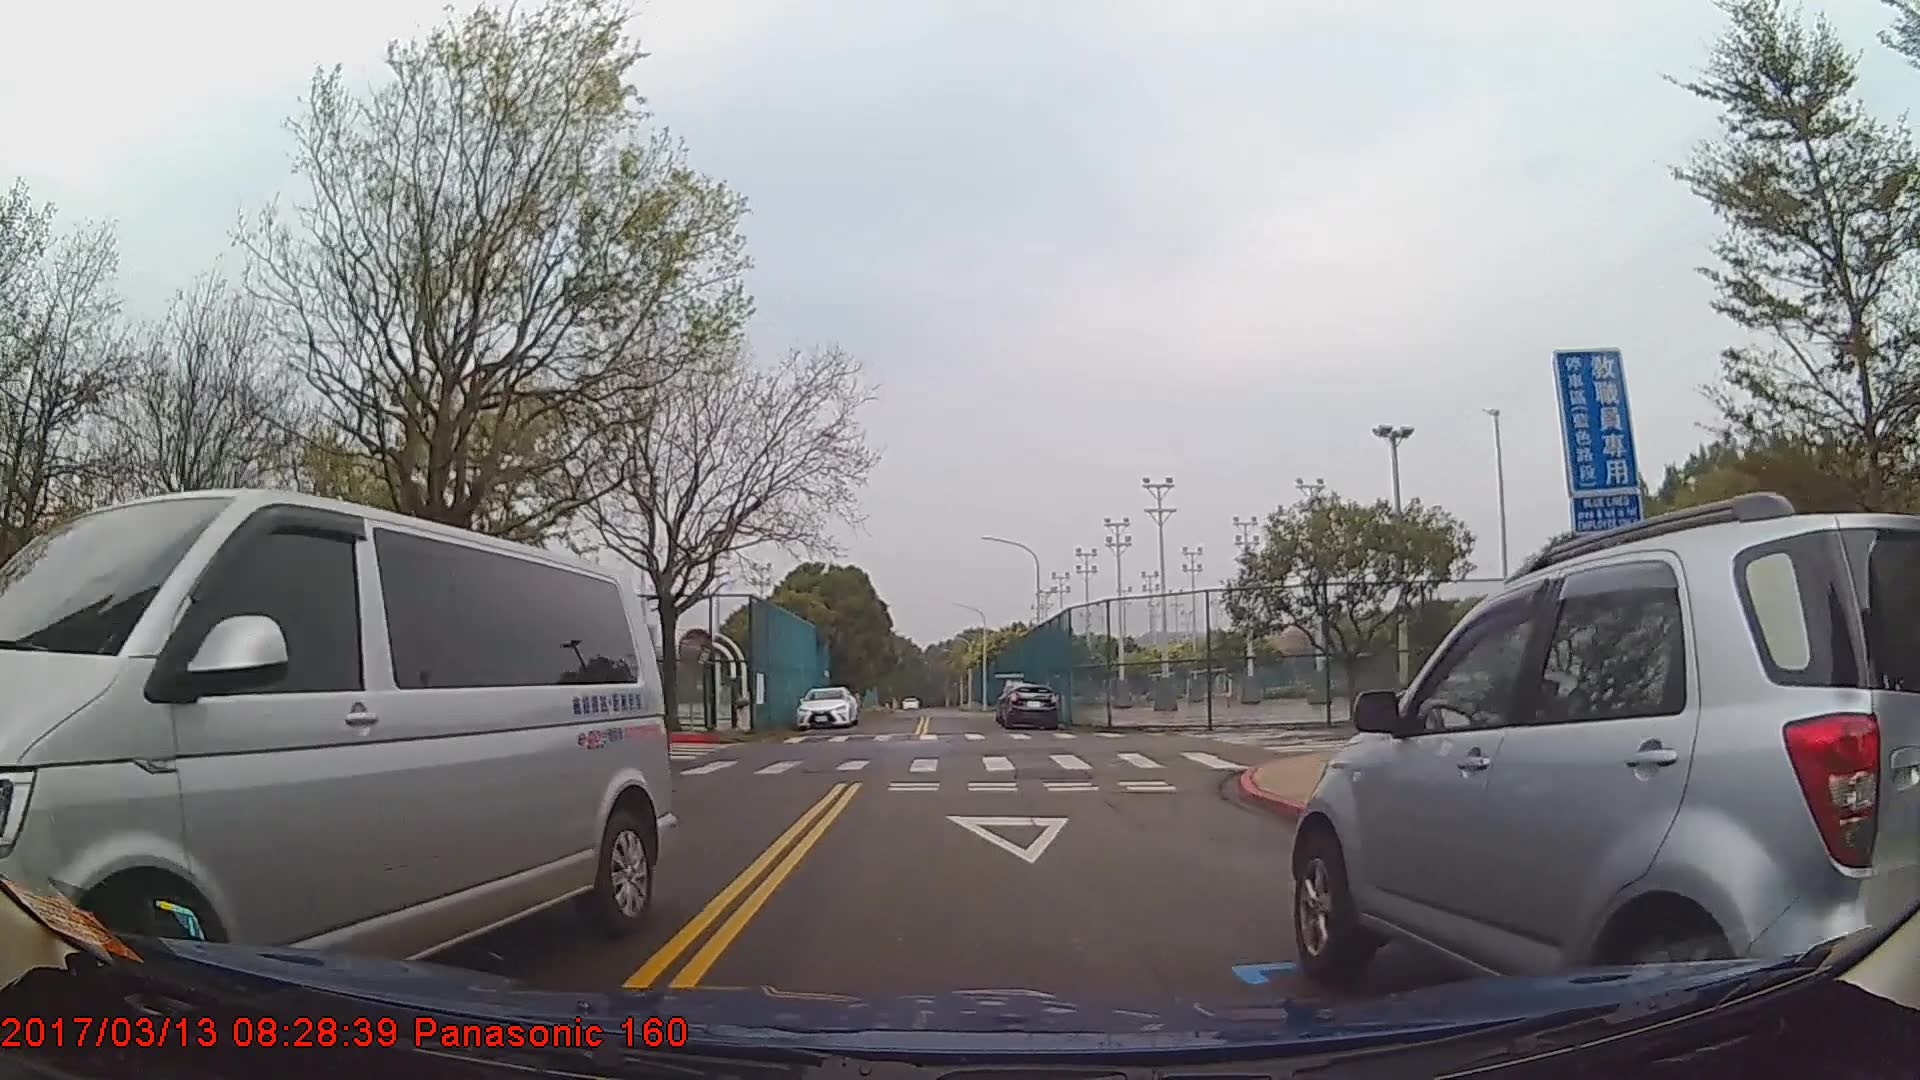vehicle: (0, 481, 675, 1006), (1288, 510, 1920, 1030), (1002, 680, 1060, 731), (794, 683, 858, 728)
